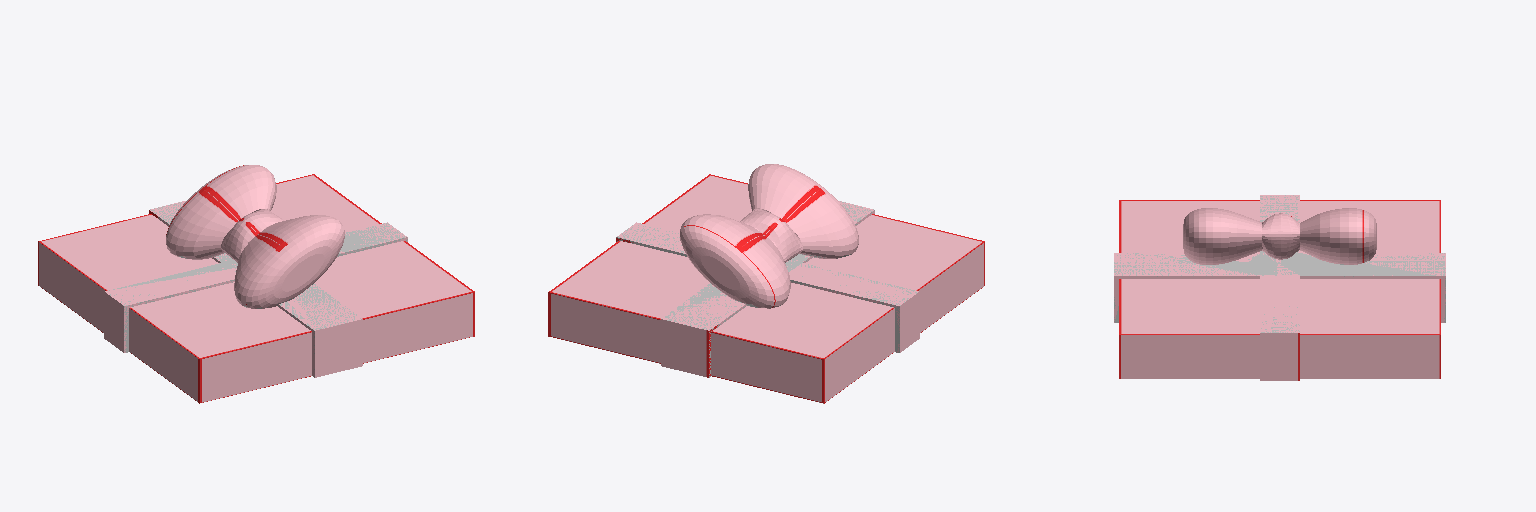
3 views of the same model, side by side, from view 1: azimuth 30°, elevation 25°; view 2: azimuth 150°, elevation 25°; view 3: azimuth 270°, elevation 25° (orthographic).
Visible parts, largest first — view 1: Cubo.008, Cubo.006, Cubo.007; view 2: Cubo.008, Cubo.007, Cubo.006; view 3: Cubo.008, Cubo.007.
Part boxes in pixels (left/top/right/bottom): Cubo.008: left=38, top=165, right=474, bottom=403; Cubo.006: left=109, top=223, right=407, bottom=352; Cubo.007: left=150, top=202, right=360, bottom=376; Cubo.008: left=548, top=164, right=984, bottom=403; Cubo.007: left=665, top=201, right=874, bottom=377; Cubo.006: left=616, top=223, right=916, bottom=352; Cubo.008: left=1114, top=195, right=1445, bottom=380; Cubo.007: left=1114, top=253, right=1445, bottom=322.
Size of the model in its own units: 2.13 by 0.7971 by 2.16.
4 materials, 1 textured.